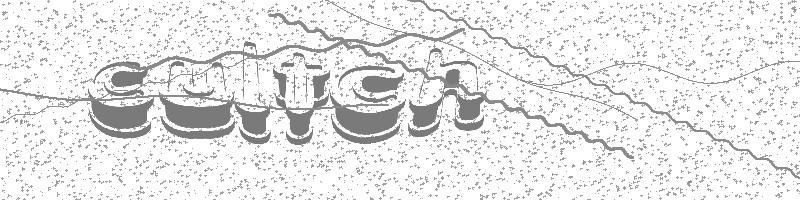c: (330, 64, 405, 144), (86, 60, 155, 140)
h: (407, 48, 485, 138)
l: (235, 40, 272, 145)
t: (272, 52, 329, 146)
u: (158, 60, 235, 140)
